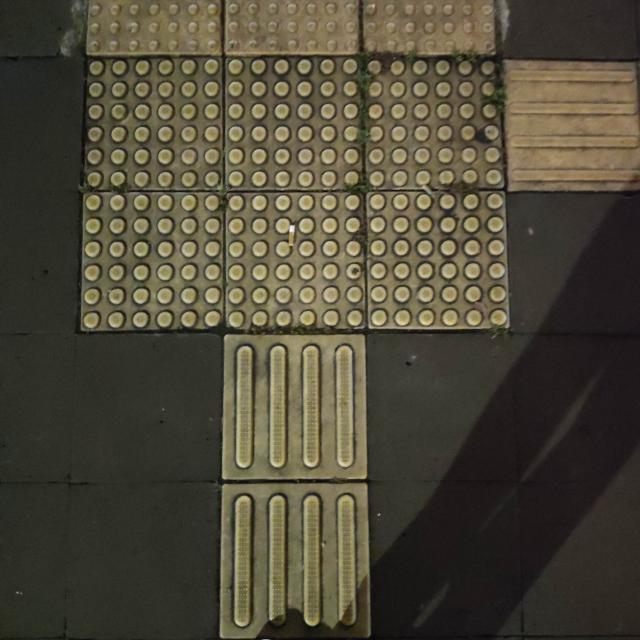kanan: (125, 6, 640, 442)
